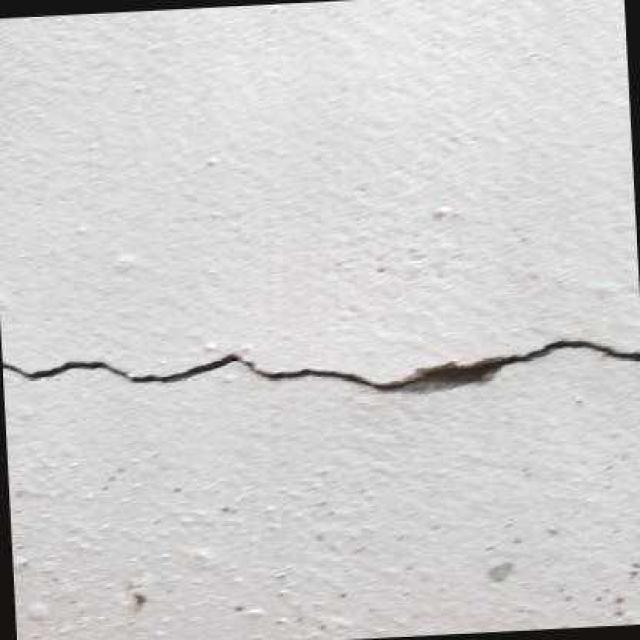D00: (2, 338, 640, 393)
